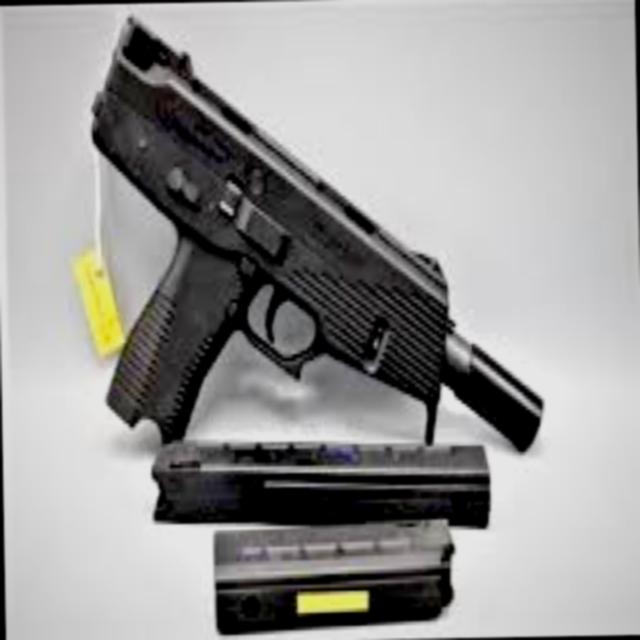semi automatic: (67, 7, 557, 628)
